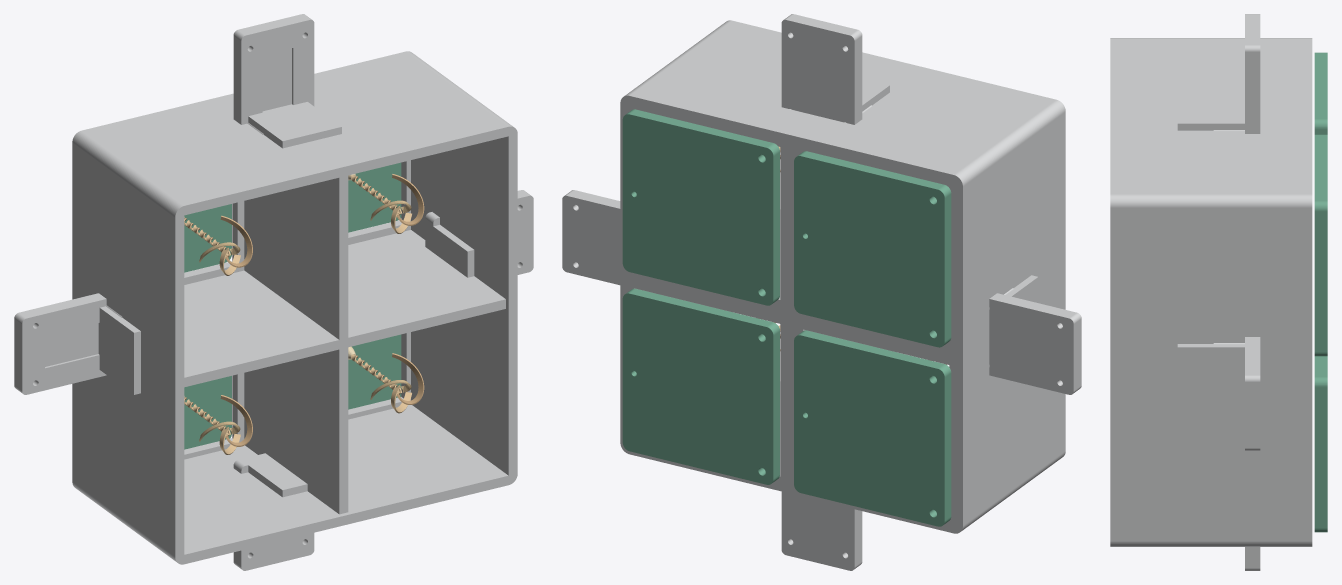
The model's file is payload_cassette.glb.
3 renders of one model, left to right at view 1: azimuth 30°, elevation 25°; view 2: azimuth 150°, elevation 25°; view 3: azimuth 270°, elevation 25°, orthographic.
Parts seen in each view (by area): view 1: D01_four_cell_payload_cassette, D03_servo_mount_3, D03_servo_mount_2, D03_servo_mount_4, D03_servo_mount_1, D02_door_4, D02_door_1, D02_door_3, D02_door_2; view 2: D01_four_cell_payload_cassette, D02_door_3, D02_door_2, D02_door_1, D02_door_4, D03_servo_mount_2, D03_servo_mount_3, D03_servo_mount_4, D03_servo_mount_1; view 3: D01_four_cell_payload_cassette, D03_servo_mount_1, D03_servo_mount_2, D02_door_1, D02_door_4, D02_door_2, D03_servo_mount_4.
Part boxes in pixels (<box>): D01_four_cell_payload_cassette: <box>72,51,517,564</box>; D03_servo_mount_3: <box>14,293,140,394</box>; D03_servo_mount_2: <box>233,14,341,148</box>; D03_servo_mount_4: <box>233,453,314,570</box>; D03_servo_mount_1: <box>425,190,533,277</box>; D02_door_4: <box>348,334,401,409</box>; D02_door_1: <box>348,162,401,232</box>; D02_door_3: <box>184,376,231,449</box>; D02_door_2: <box>184,204,231,272</box>; D01_four_cell_payload_cassette: <box>620,20,1065,533</box>; D02_door_3: <box>794,330,951,526</box>; D02_door_2: <box>794,151,951,347</box>; D02_door_1: <box>622,109,779,305</box>; D02_door_4: <box>622,288,779,484</box>; D03_servo_mount_2: <box>781,14,889,124</box>; D03_servo_mount_3: <box>989,275,1081,394</box>; D03_servo_mount_4: <box>781,491,862,570</box>; D03_servo_mount_1: <box>562,190,620,285</box>; D01_four_cell_payload_cassette: <box>1110,38,1312,546</box>; D03_servo_mount_1: <box>1177,337,1260,450</box>; D03_servo_mount_2: <box>1177,14,1260,133</box>; D02_door_1: <box>1314,134,1327,356</box>; D02_door_4: <box>1314,356,1327,532</box>; D02_door_2: <box>1314,52,1327,134</box>; D03_servo_mount_4: <box>1245,547,1260,570</box>.
Bounding box in the file's own units: 224 × 224 × 84.
